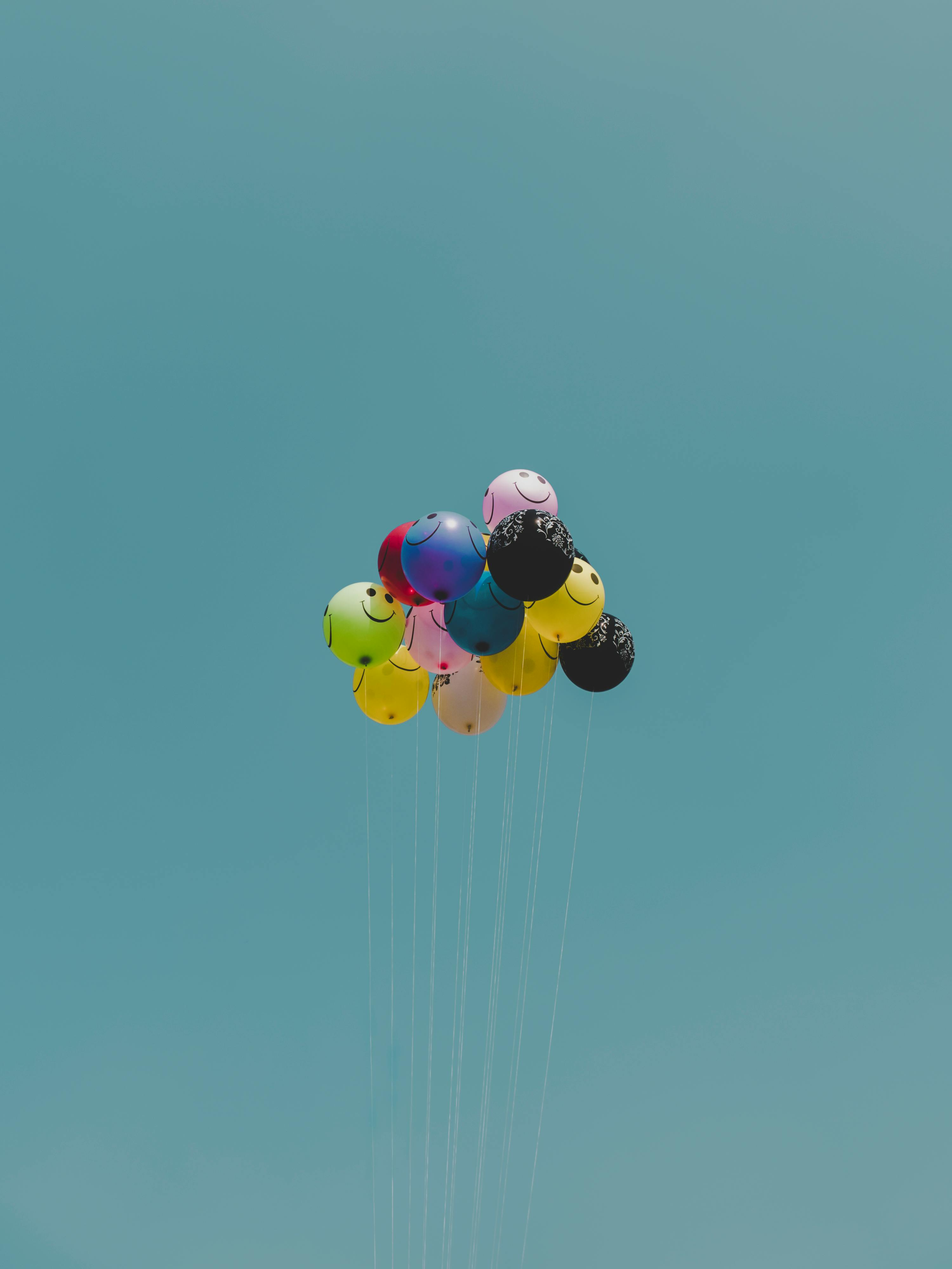balloon: (486, 509, 574, 602), (401, 511, 486, 603), (443, 570, 524, 656), (323, 583, 405, 667), (527, 557, 605, 642), (432, 651, 506, 735), (480, 617, 558, 695), (353, 646, 429, 724), (559, 615, 634, 692), (403, 604, 473, 674), (377, 522, 432, 607), (483, 470, 558, 531)
